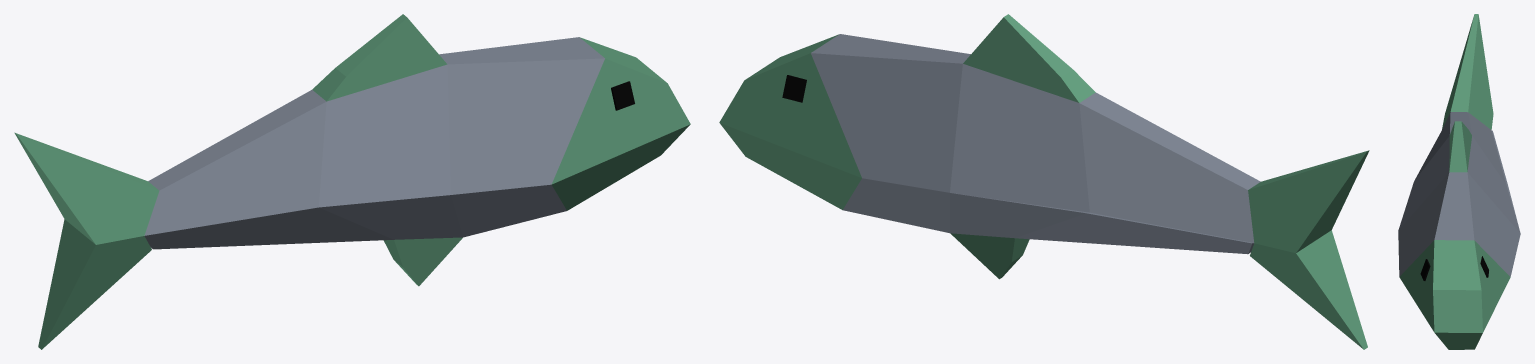
Rendered from peces.fbx.
The picture shows the model from 3 angles, left to right: view 1: azimuth 30°, elevation 25°; view 2: azimuth 150°, elevation 25°; view 3: azimuth 270°, elevation 25°; orthographic projection. The views are drawn at different scales.
Parts seen in each view (by area): view 1: pez :3; view 2: pez :3; view 3: pez :3.
Part boxes in pixels (bbox=[...]): pez :3: bbox=[14, 14, 690, 349]; pez :3: bbox=[719, 14, 1369, 349]; pez :3: bbox=[1398, 14, 1520, 349].
Size of the model in its own units: 306 by 121 by 69.41.
